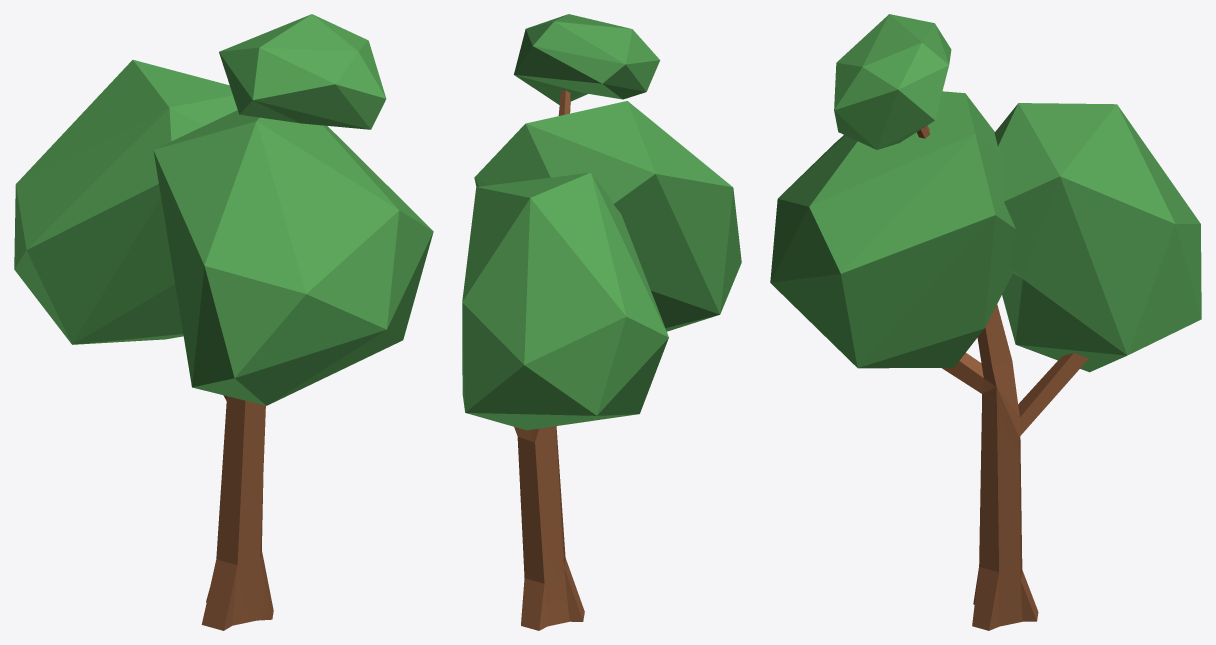
The model's file is foliage_tree_02.fbx.
3 views of the same model, side by side, from view 1: azimuth 30°, elevation 25°; view 2: azimuth 150°, elevation 25°; view 3: azimuth 270°, elevation 25° (orthographic). The views are drawn at different scales.
Visible parts, largest first — view 1: foliage_tree_02; view 2: foliage_tree_02; view 3: foliage_tree_02.
Boxes of the visible parts, bbox=[...] form: foliage_tree_02: bbox=[14, 14, 433, 630]; foliage_tree_02: bbox=[462, 14, 741, 630]; foliage_tree_02: bbox=[770, 14, 1201, 630].
Bounding box in the file's own units: 286 × 594 × 394.
